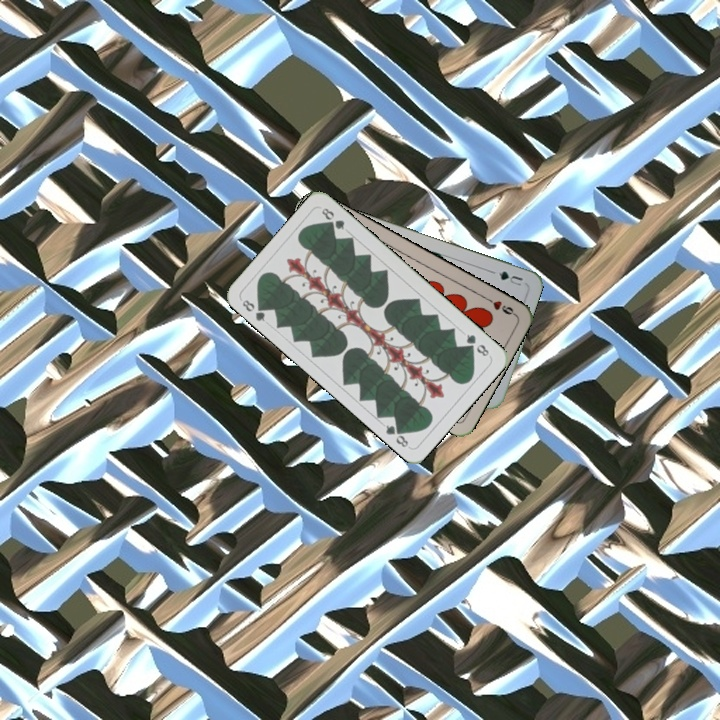G8: (462, 330, 493, 360), (238, 296, 270, 324)
GU: (494, 267, 525, 288)
H9: (481, 293, 518, 318)
